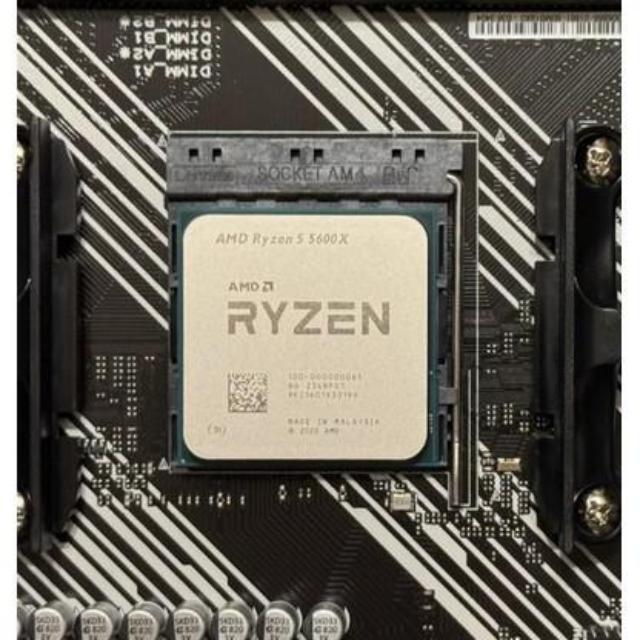CPU: (174, 208, 442, 468)
